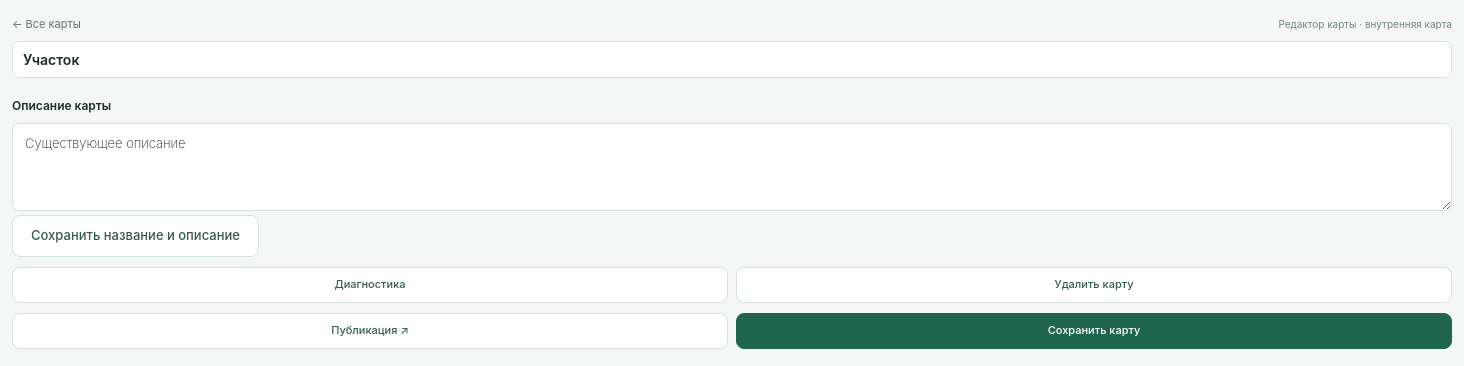
Test: error notifications have the same dismiss control
The width and height of the screenshot is (1464, 366).
Check: the field showing "Участок" is shown, box [12,41,1452,78]
Click the button "Сохранить название и описание" at (136, 236), box [12,215,259,257]
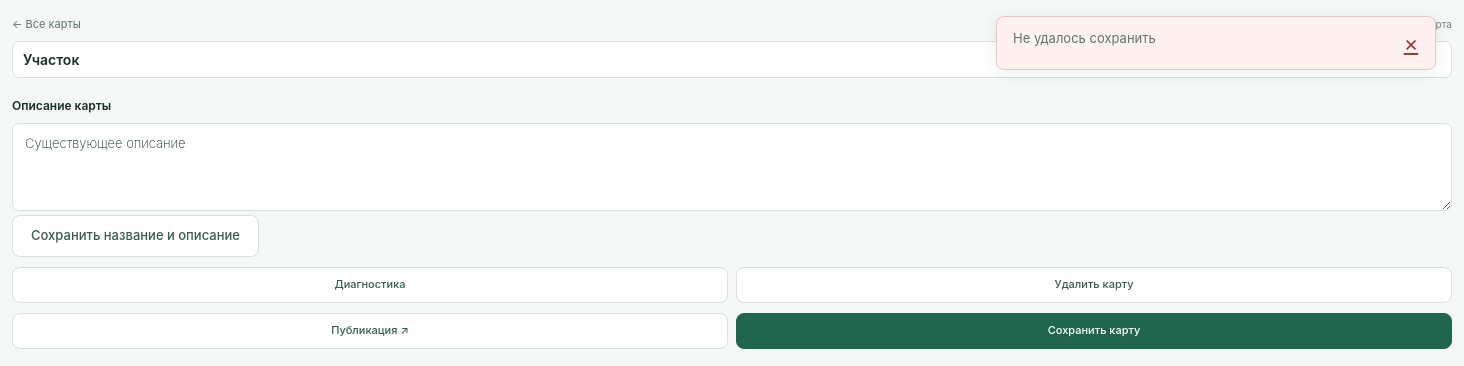
Check: the message shows "Не удалось сохранить", box [1013,30,1156,46]
Click the button named "Закрыть уведомление" at (1411, 43), box [1397,29,1425,57]
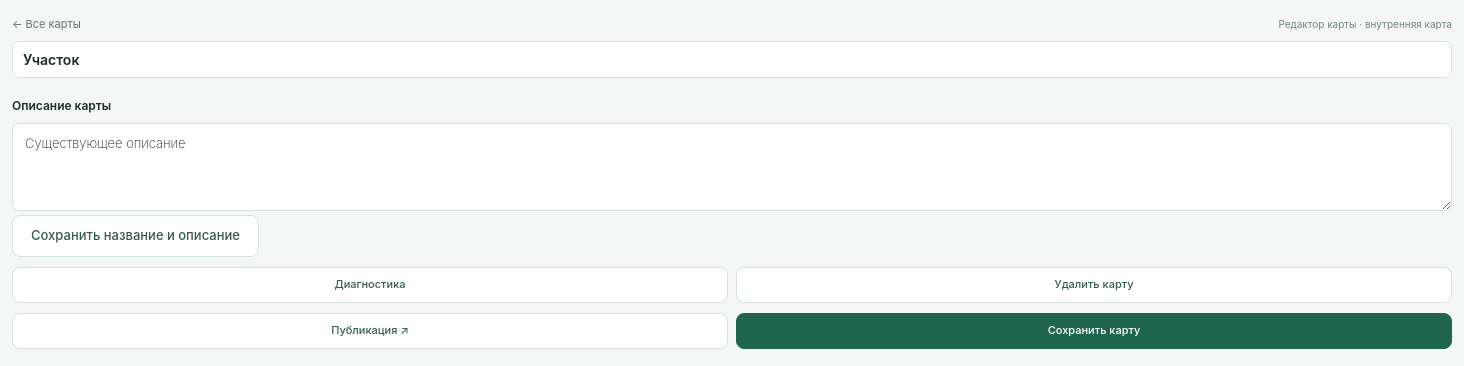
Check: the message "Не удалось сохранить ×" is gone
